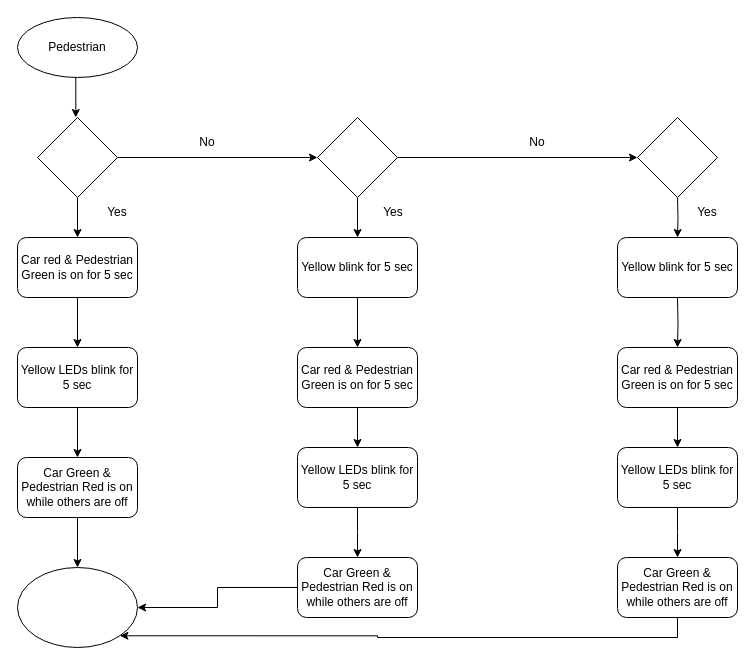
This 755x665 diagram has some shape labels left out. The shapes that lost their labels are listed below. From the top down, each one's box as (x1, y1, x2, y2) in pixels, then its label:
(36, 116, 118, 198): Car led = Red
(316, 116, 398, 198): Car led = Yellow
(636, 116, 718, 198): Car led = Green
(16, 566, 138, 648): Back to normal
